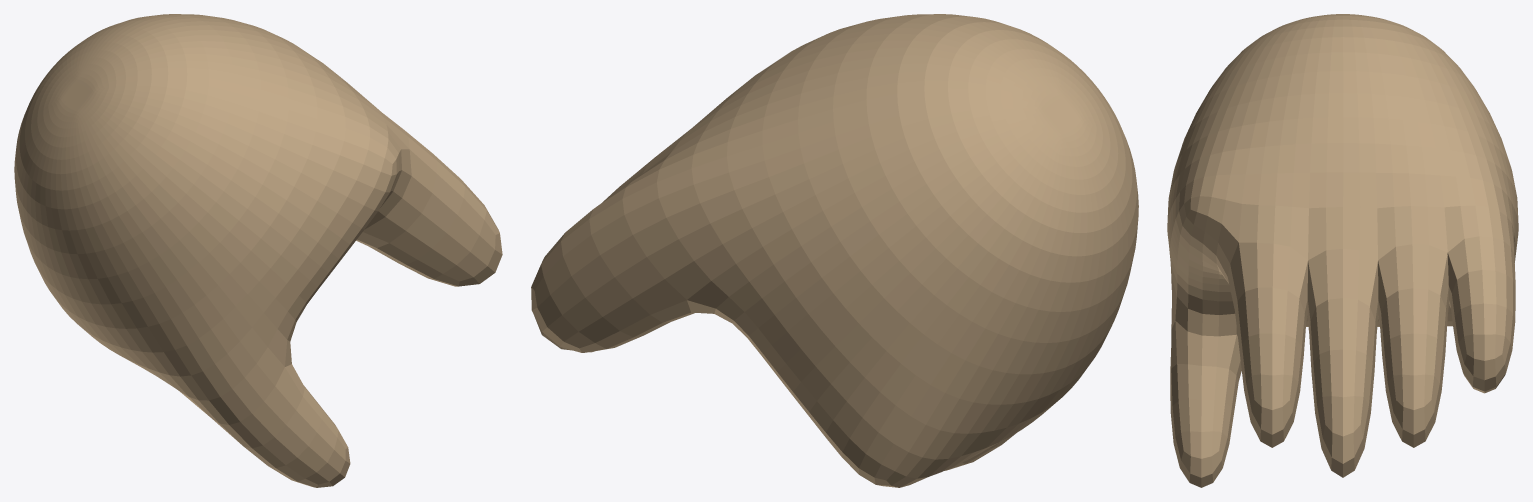
The model's file is left_hand.fbx.
The picture shows the model from 3 angles, left to right: view 1: azimuth 30°, elevation 25°; view 2: azimuth 150°, elevation 25°; view 3: azimuth 270°, elevation 25°; orthographic projection. The views are drawn at different scales.
Visible parts, largest first — view 1: Sphere.002; view 2: Sphere.002; view 3: Sphere.002.
Boxes of the visible parts, bbox=[...] form: Sphere.002: bbox=[14, 14, 502, 487]; Sphere.002: bbox=[531, 14, 1138, 487]; Sphere.002: bbox=[1167, 14, 1518, 487].
Bounding box in the file's own units: 47.63 × 43.04 × 32.77.
